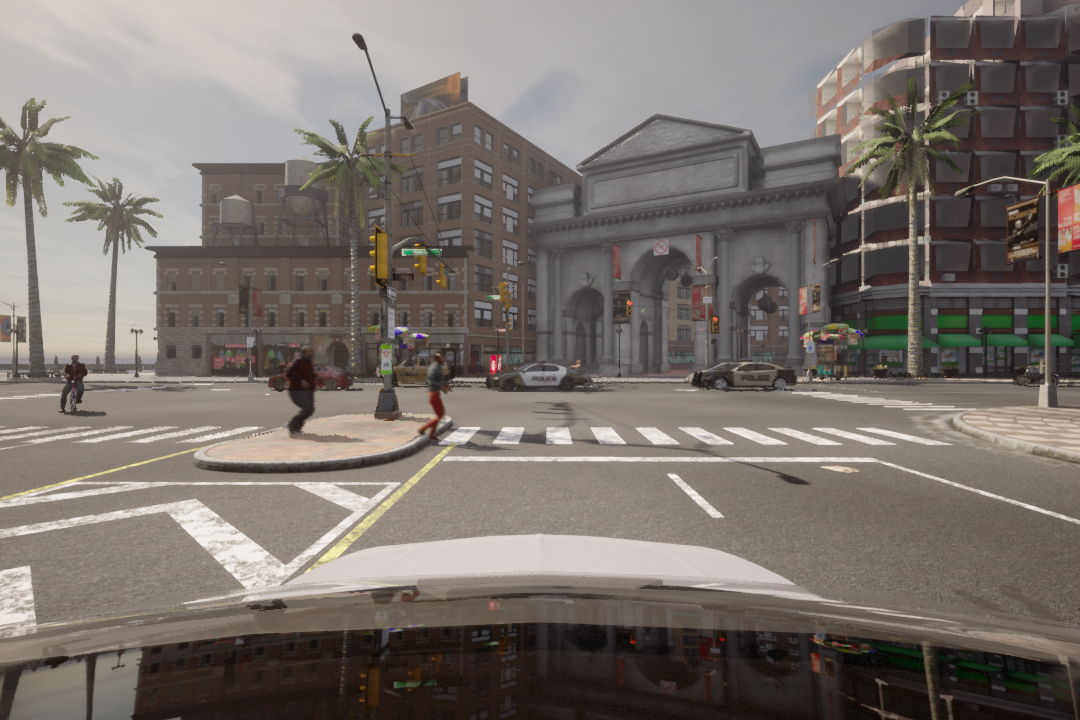TrafficLight: (711, 317, 719, 332), (627, 299, 632, 317)
TrafficSign: (655, 239, 668, 253)
walkside: (447, 423, 950, 453), (1, 422, 267, 450)
